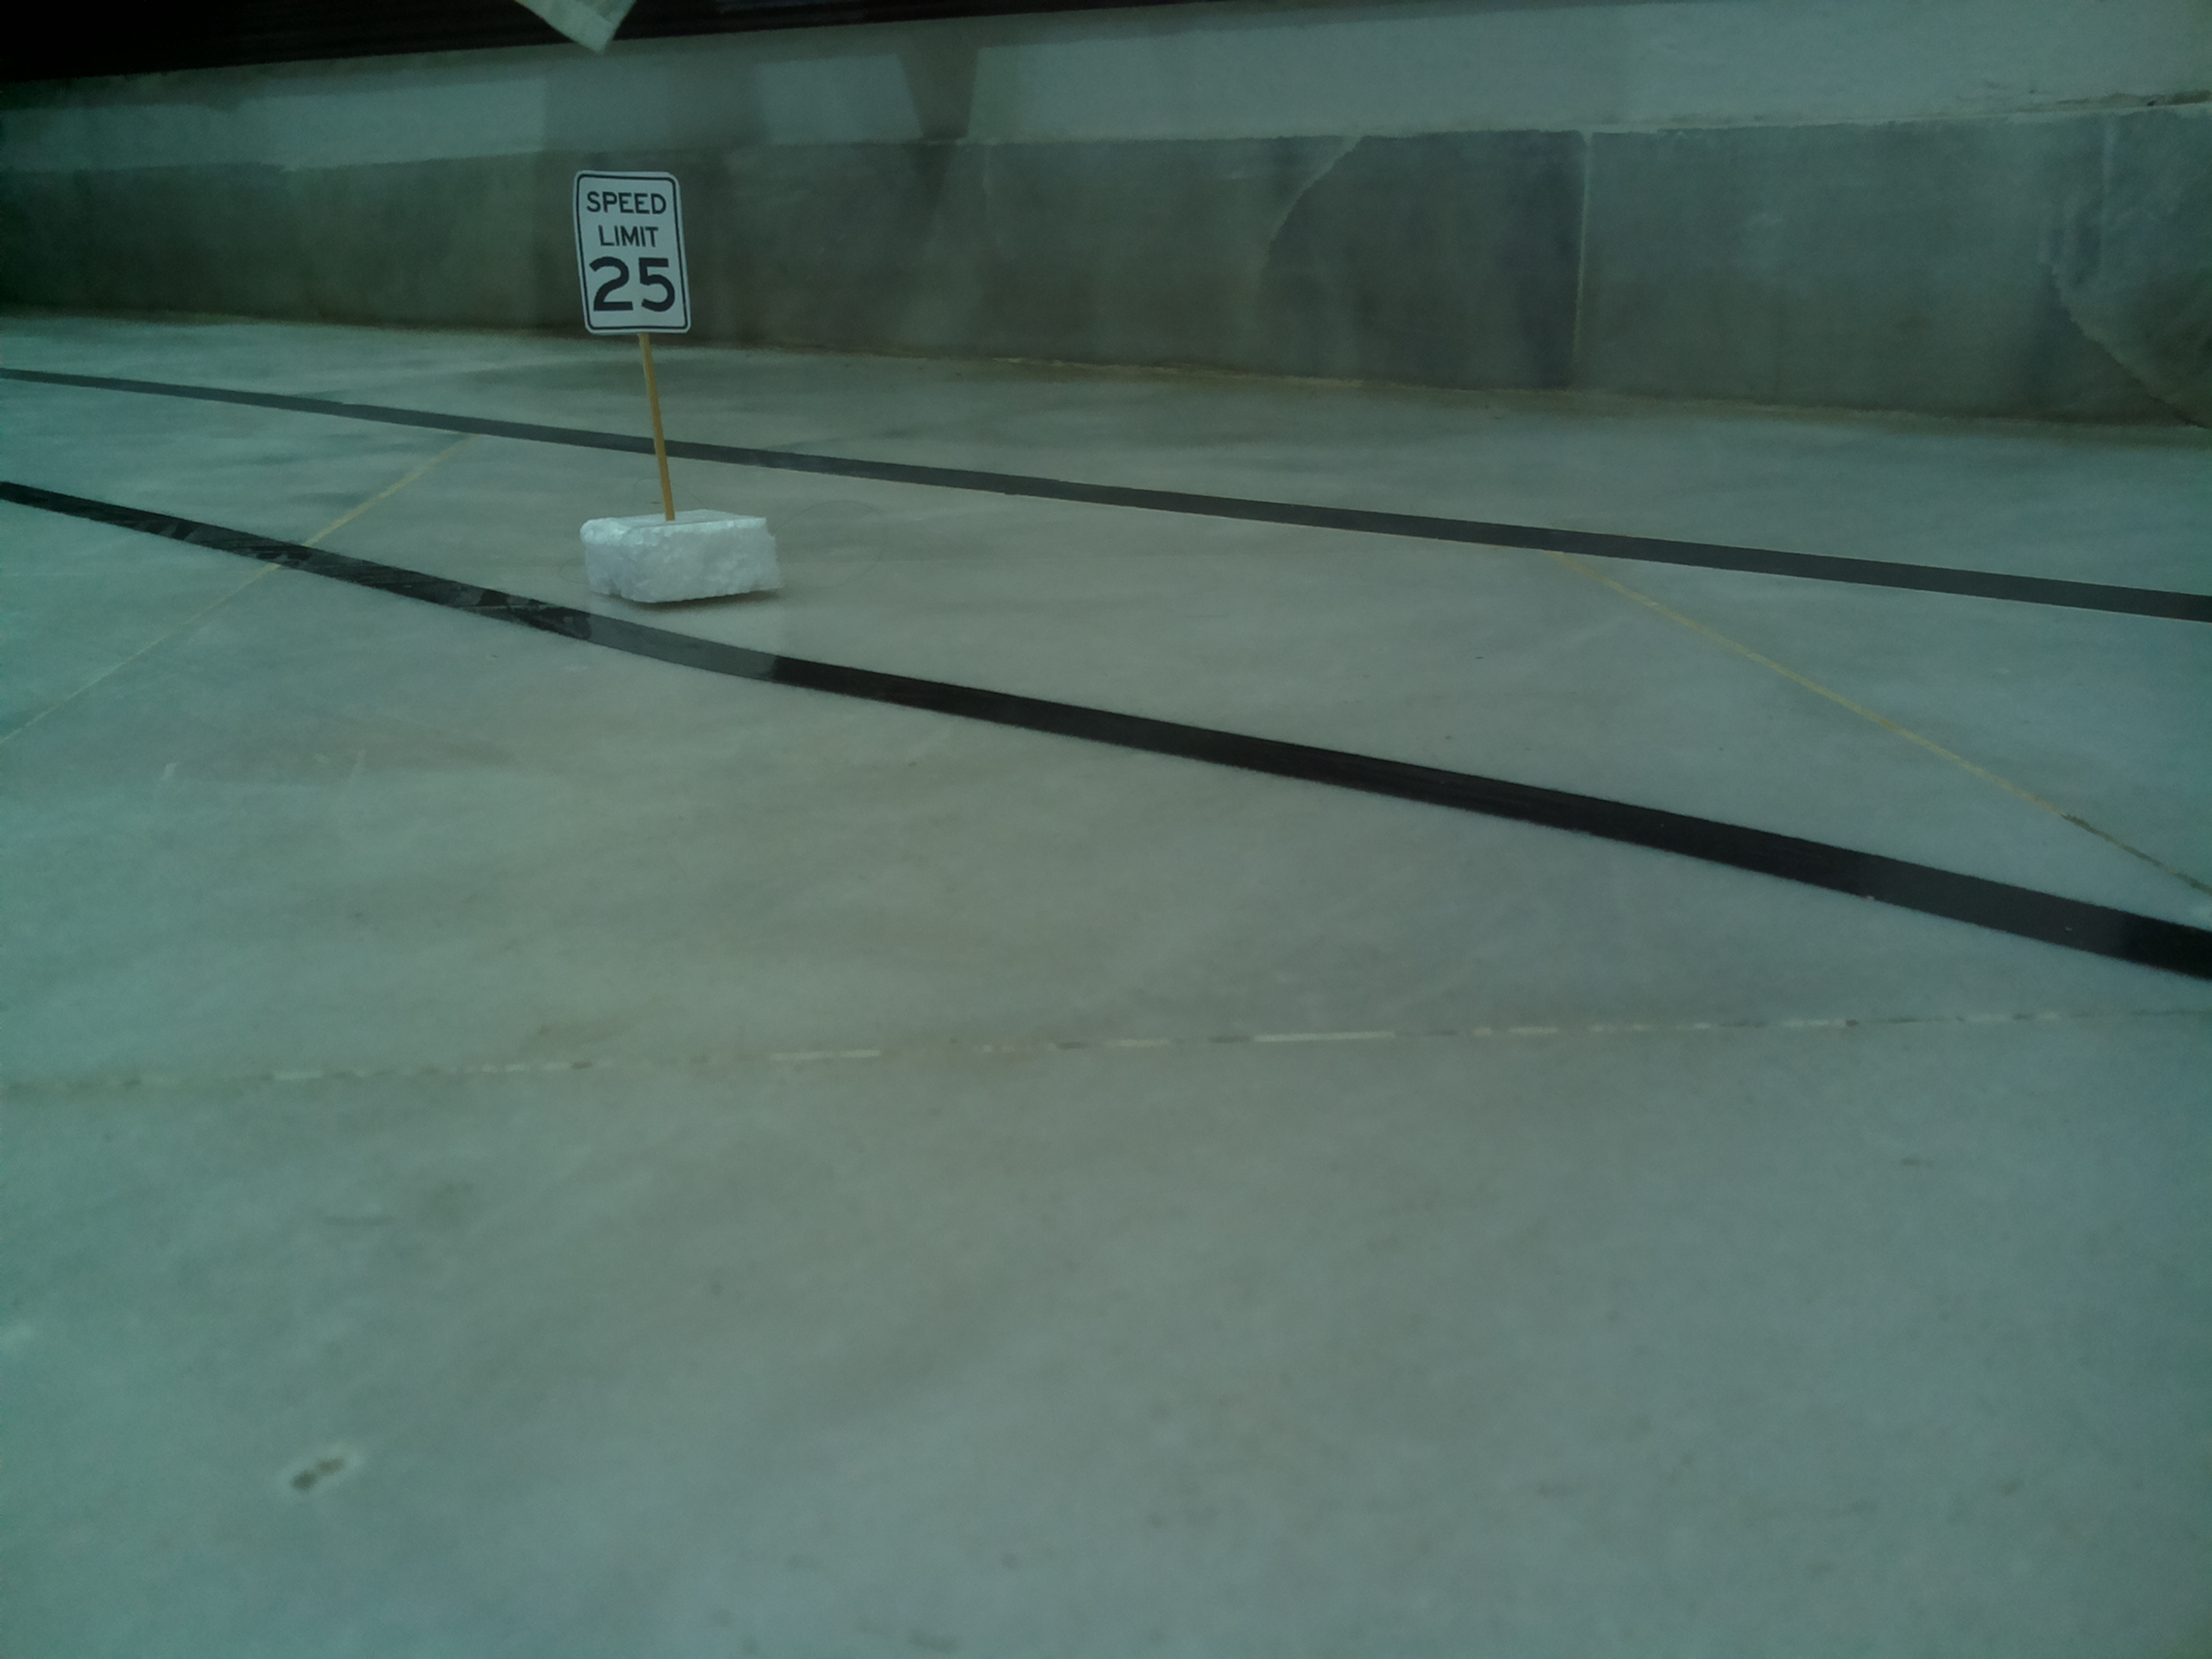Speed limit 25: (563, 160, 698, 342)
